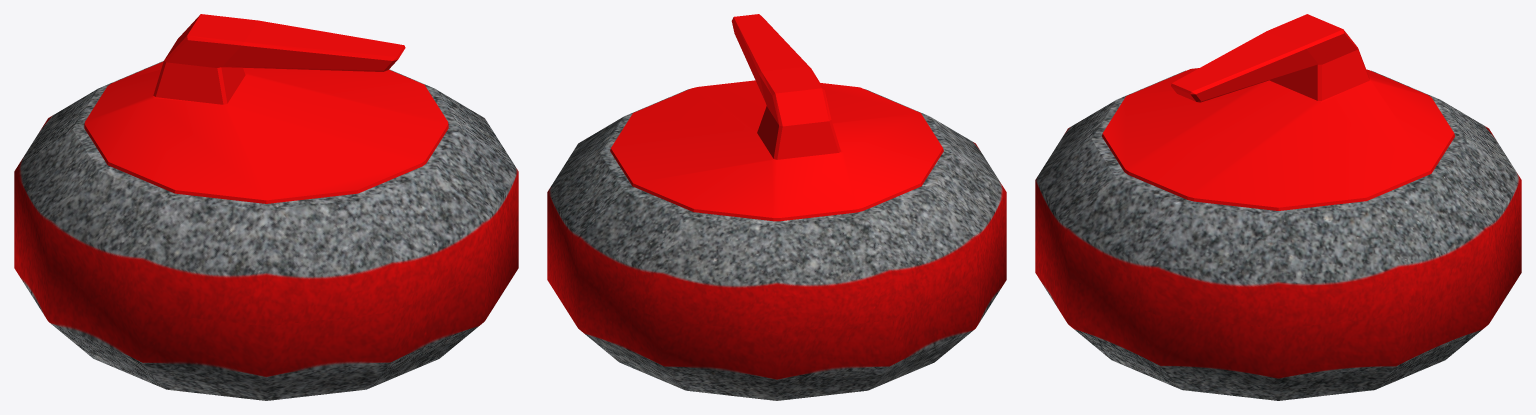
Rendered from stone_red.FBX.
3 renders of one model, left to right at view 1: azimuth 30°, elevation 25°; view 2: azimuth 150°, elevation 25°; view 3: azimuth 270°, elevation 25°, orthographic. The views are drawn at different scales.
Visible parts, largest first — view 1: stone_red; view 2: stone_red; view 3: stone_red.
Boxes of the visible parts, bbox=[...] form: stone_red: bbox=[14, 14, 518, 400]; stone_red: bbox=[547, 14, 1006, 400]; stone_red: bbox=[1035, 14, 1521, 400].
Bounding box in the file's own units: 26 × 16.25 × 26.
